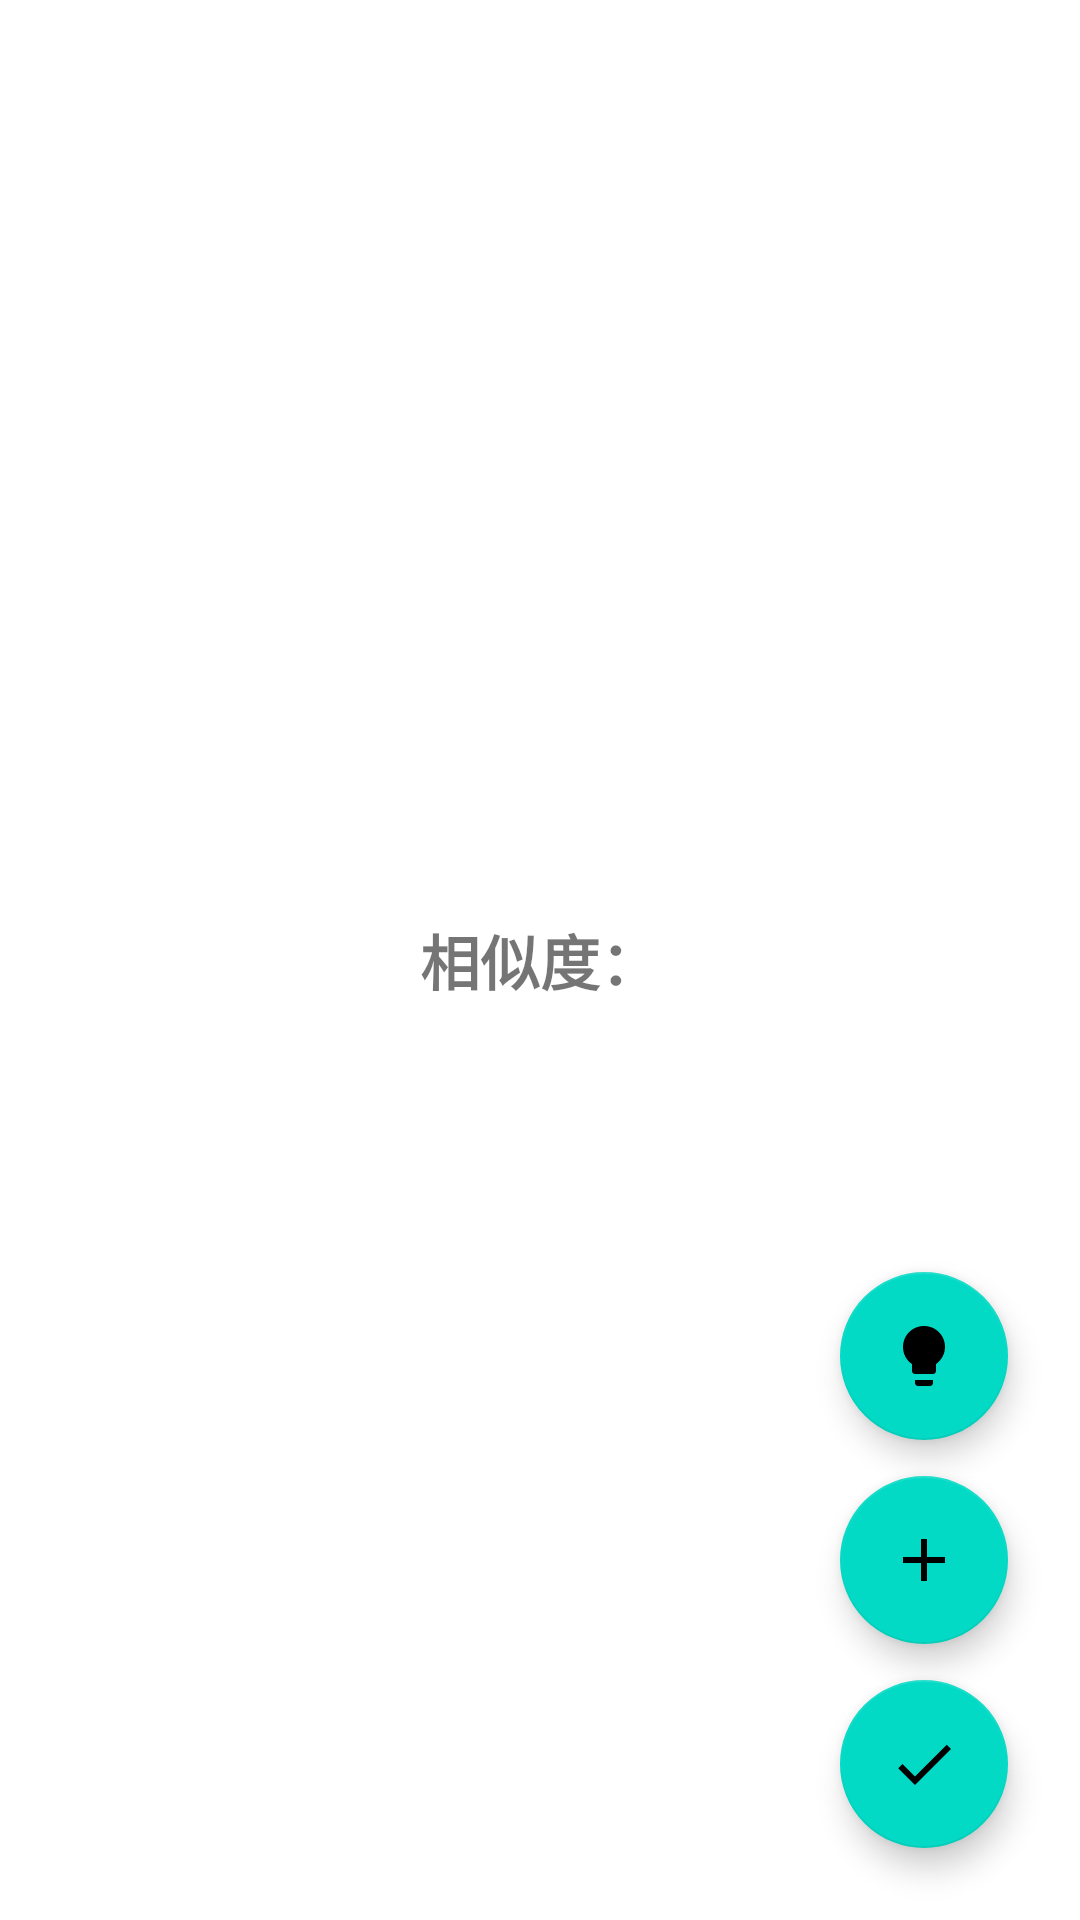

Icons on this 1080 x 1920 Android screen, each with its box as (x1, y1, x2, y2):
add: (840, 1476, 1008, 1644)
check: (840, 1680, 1008, 1848)
lightbulb: (840, 1272, 1008, 1440)
